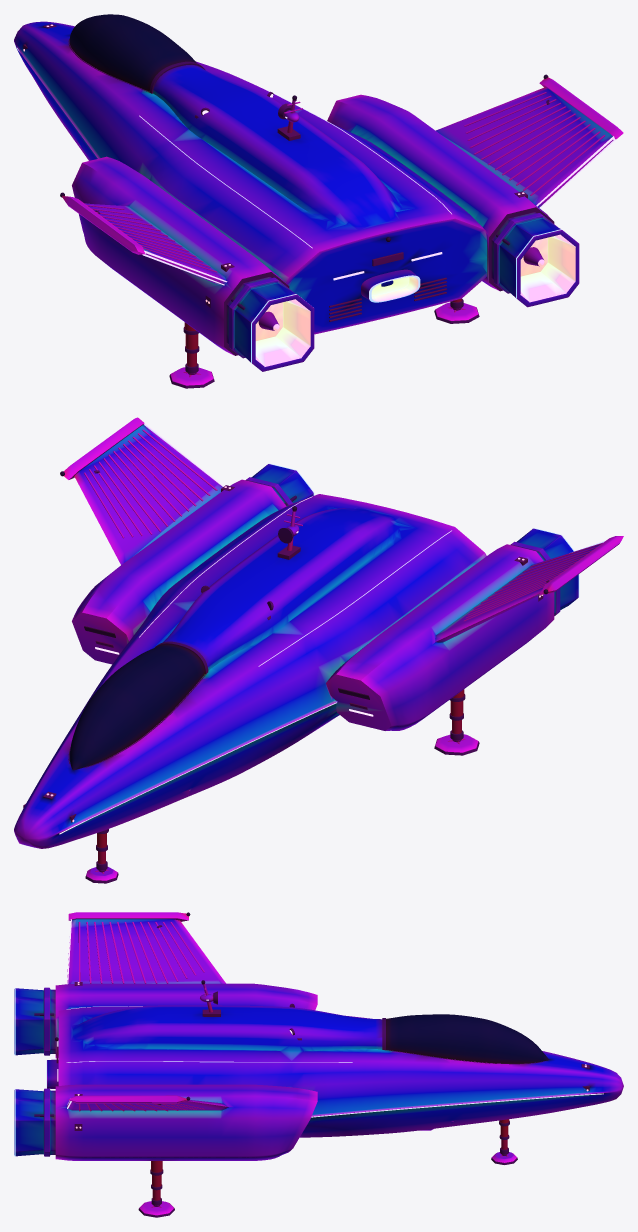
The model's file is ship.glb.
The picture shows the model from 3 angles, top to bottom: view 1: azimuth 30°, elevation 25°; view 2: azimuth 150°, elevation 25°; view 3: azimuth 270°, elevation 25°; orthographic projection. The views are drawn at different scales.
Visible parts, largest first — view 1: Hull, Canopy, GearRearL, GearRearR; view 2: Hull, Canopy, GearRearL; view 3: Hull, Canopy, GearRearR.
Boxes of the visible parts, x1,y1,x2,y2 form: Hull: (14,21,623,371); Canopy: (68,14,205,93); GearRearL: (169,353,214,388); GearRearR: (434,298,479,323); Hull: (14,417,623,848); Canopy: (68,641,208,769); GearRearL: (434,720,479,755); Hull: (14,912,623,1160); Canopy: (382,1014,549,1064); GearRearR: (138,1189,174,1217).
Bounding box in the file's own units: 14.41 × 6.45 × 19.91.
